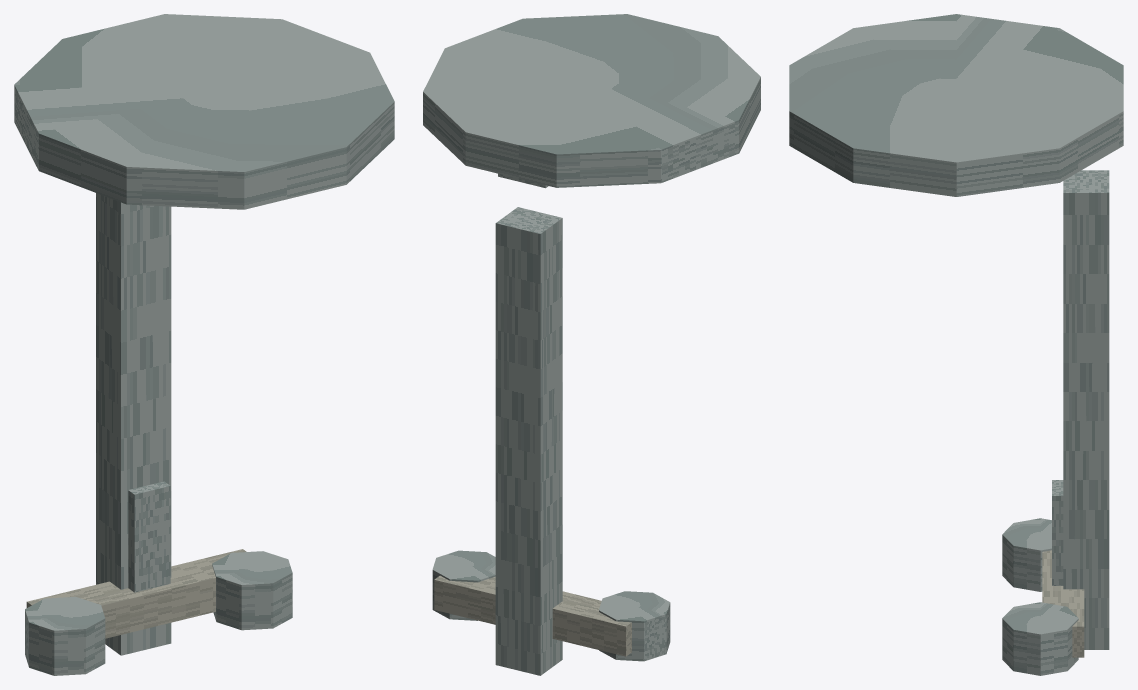
Rendered from regadera_pared.glb.
3 views of the same model, side by side, from view 1: azimuth 30°, elevation 25°; view 2: azimuth 150°, elevation 25°; view 3: azimuth 270°, elevation 25° (orthographic). The views are drawn at different scales.
Visible parts, largest first — view 1: regadera_pared; view 2: regadera_pared; view 3: regadera_pared.
Part boxes in pixels (box(x1,y1,x2,y2)): regadera_pared: box(14, 14, 394, 675); regadera_pared: box(423, 14, 760, 675); regadera_pared: box(789, 14, 1123, 675).
Size of the model in its own units: 0.2804 by 0.4846 by 0.2667.
1 material, 1 textured.
